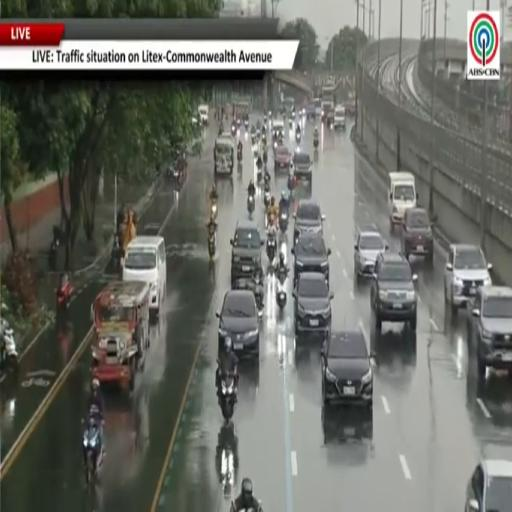car: (321, 330, 372, 408), (468, 286, 511, 378), (370, 252, 417, 331), (444, 244, 492, 314), (216, 291, 259, 356), (293, 272, 333, 335), (465, 459, 511, 511), (230, 220, 263, 285), (292, 233, 330, 286), (322, 408, 372, 444), (401, 207, 433, 262), (354, 228, 388, 278), (294, 200, 325, 246), (292, 151, 312, 182), (274, 146, 290, 171), (272, 119, 284, 139)
jeepney: (92, 281, 150, 391), (214, 135, 236, 175), (233, 101, 249, 122)
motorcycle: (216, 423, 238, 497), (83, 412, 103, 484), (0, 318, 18, 371), (219, 375, 236, 422), (56, 282, 73, 325), (48, 227, 61, 271), (111, 233, 122, 273), (254, 274, 263, 316), (276, 275, 287, 309), (48, 239, 59, 271), (230, 502, 263, 511), (267, 235, 276, 264), (208, 231, 216, 259), (279, 210, 288, 233), (248, 195, 254, 218), (210, 201, 217, 220), (264, 190, 270, 210), (231, 124, 237, 136), (263, 152, 268, 166), (237, 148, 242, 162), (257, 169, 262, 183), (253, 143, 258, 157), (237, 162, 242, 173), (251, 133, 255, 146), (244, 120, 249, 130), (262, 133, 266, 145), (314, 137, 318, 149), (296, 133, 300, 143), (273, 139, 277, 149), (268, 110, 272, 120), (237, 119, 241, 129), (256, 131, 260, 140), (289, 120, 293, 129), (264, 116, 267, 124)
truck: (321, 85, 335, 121)
